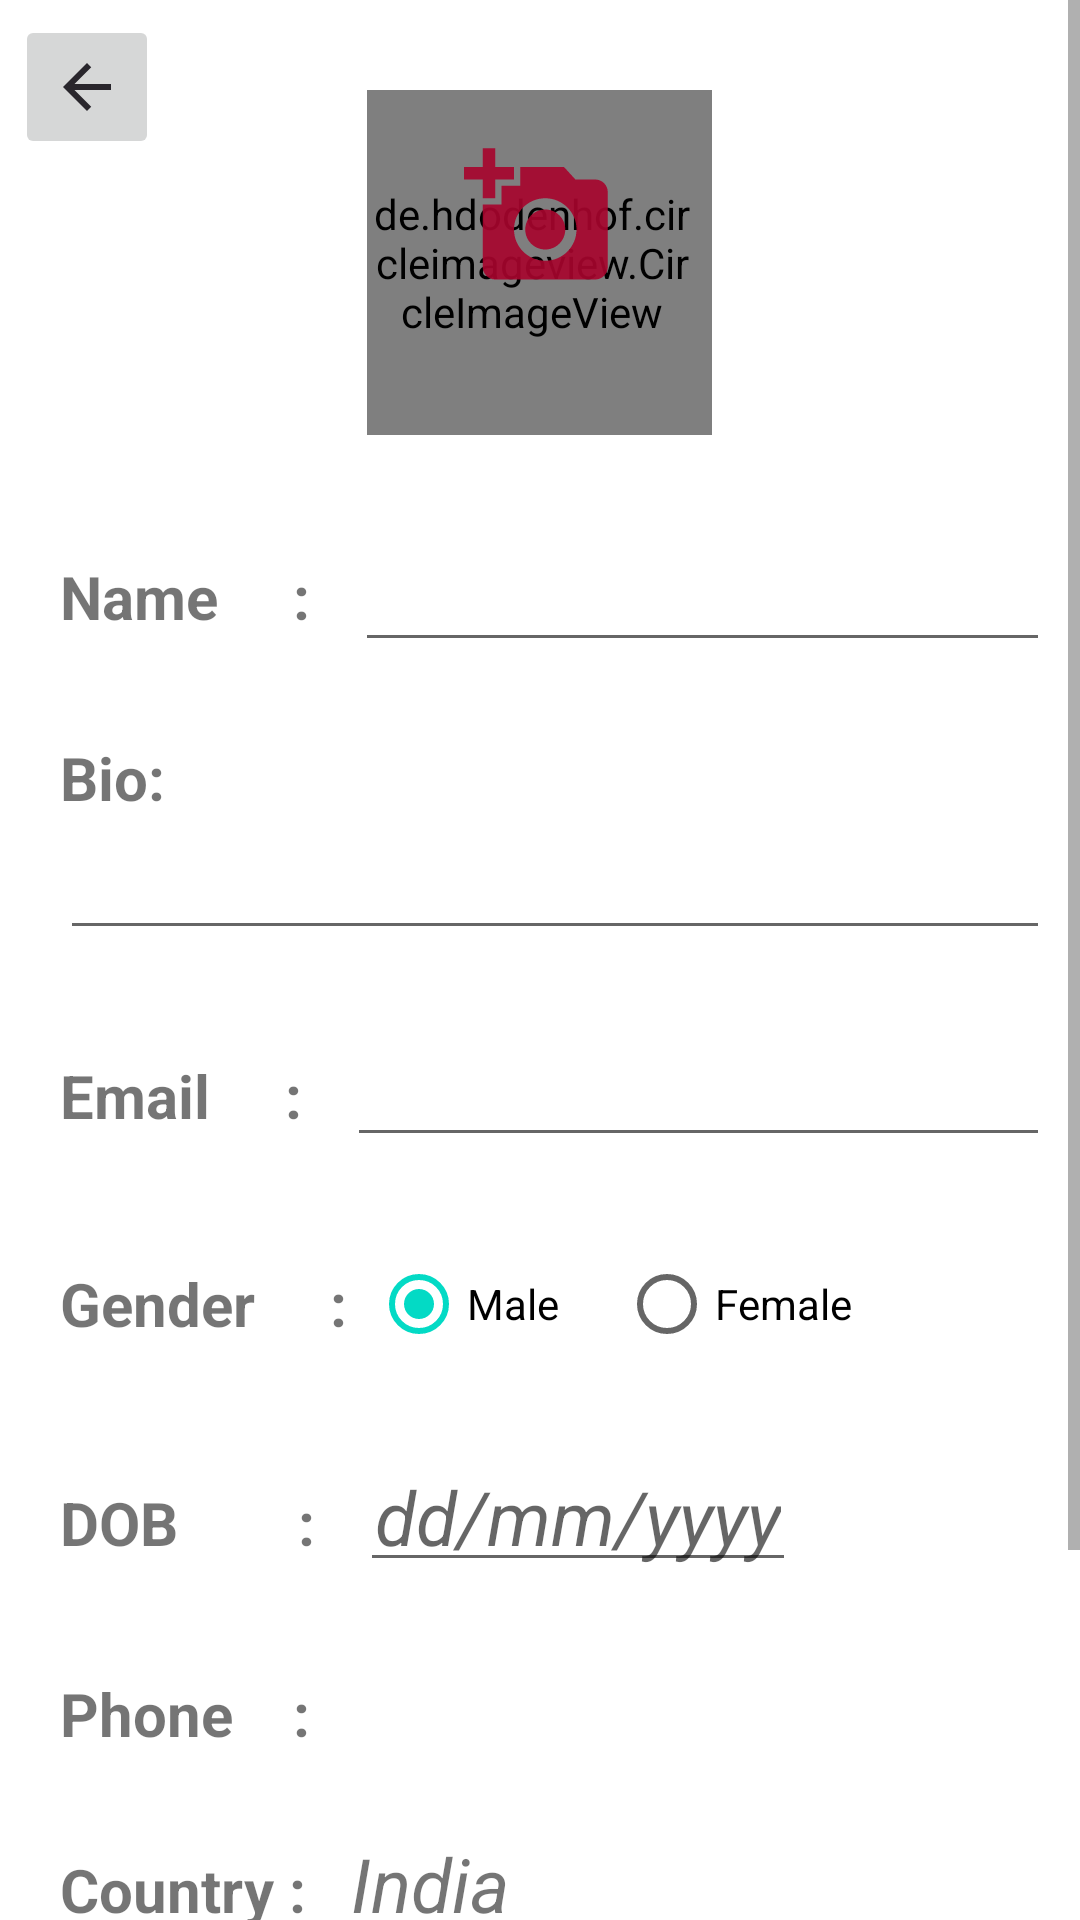

Screen size 1080x1920. Icon name, then its box in pixels as detection(x1, y1, x2, y2):
back: detection(27, 33, 147, 141)
edit profile photo: detection(464, 148, 614, 288)
